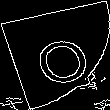O_N: (21, 25, 89, 85)
